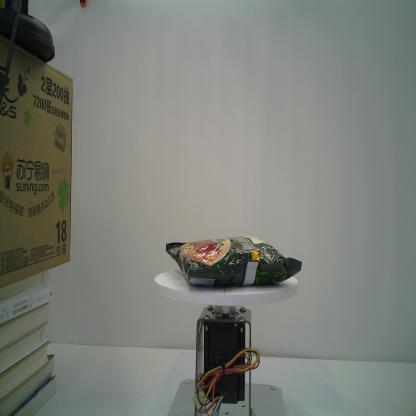Instant Noodles: (164, 234, 303, 290)
